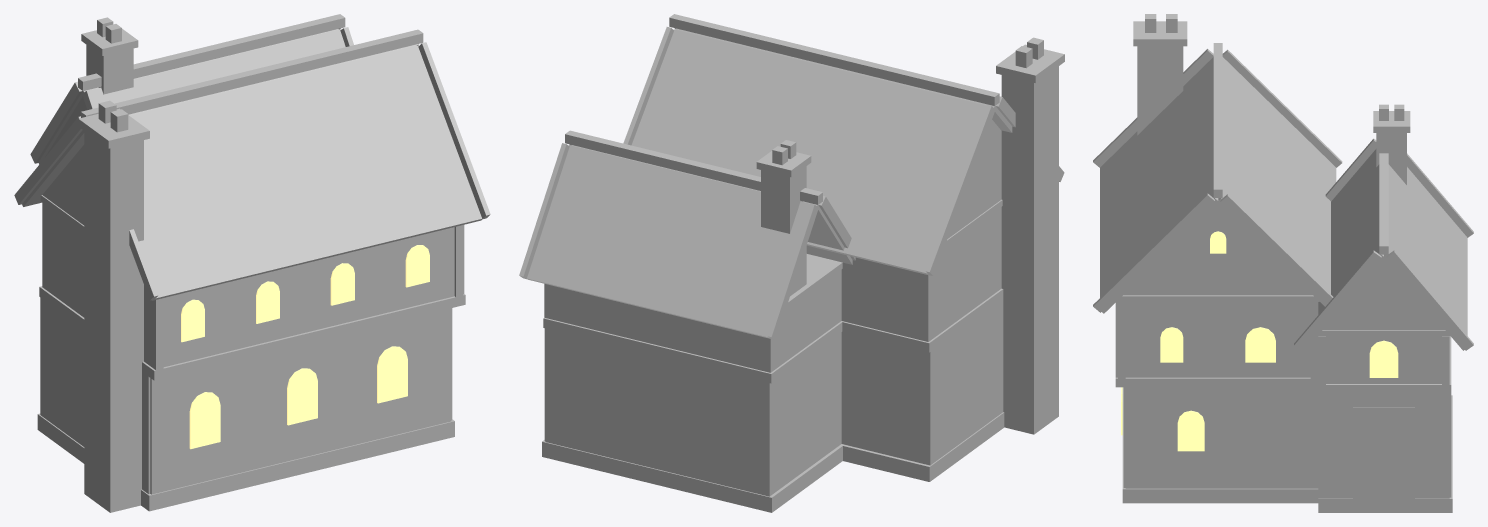
The model's file is a2_guild_tavern_mini.gltf.
3 renders of one model, left to right at view 1: azimuth 30°, elevation 25°; view 2: azimuth 150°, elevation 25°; view 3: azimuth 270°, elevation 25°, orthographic. The views are drawn at different scales.
Visible parts, largest first — view 1: tavern_mini; view 2: tavern_mini; view 3: tavern_mini.
Boxes of the visible parts, bbox=[...] form: tavern_mini: bbox=[14, 14, 490, 512]; tavern_mini: bbox=[519, 14, 1064, 512]; tavern_mini: bbox=[1093, 14, 1473, 512].
Size of the model in its own units: 1.3 by 1.29 by 1.28.
